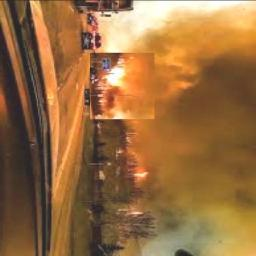Heavy smoke: (100, 0, 256, 256)
Small fire: (93, 38, 158, 228)
